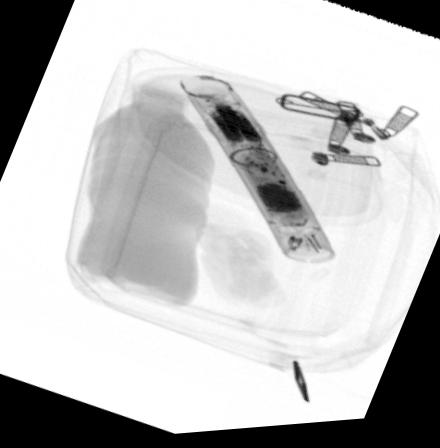Baton: (181, 77, 336, 267)
